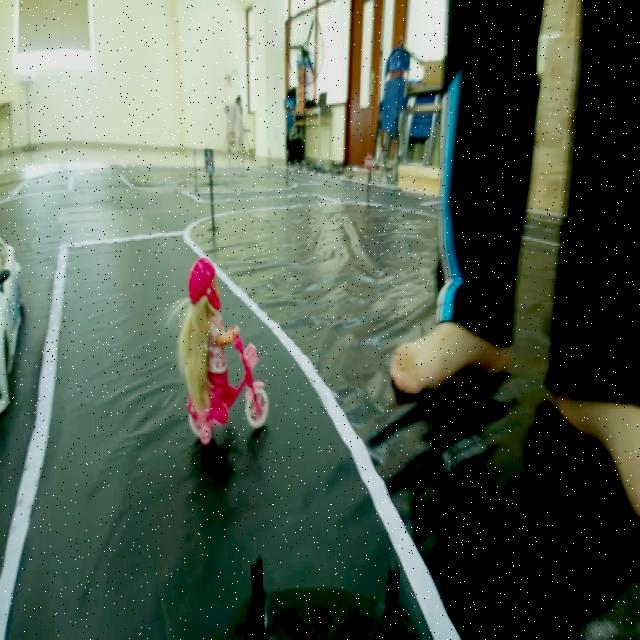pedestrian: (165, 257, 284, 446)
